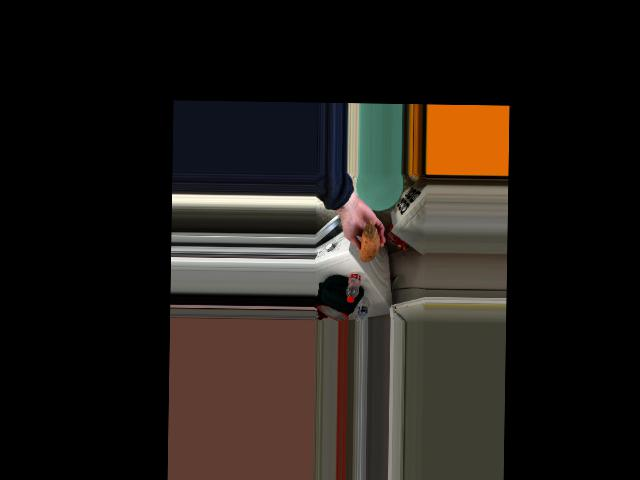sweet_potato: (357, 218, 377, 265)
